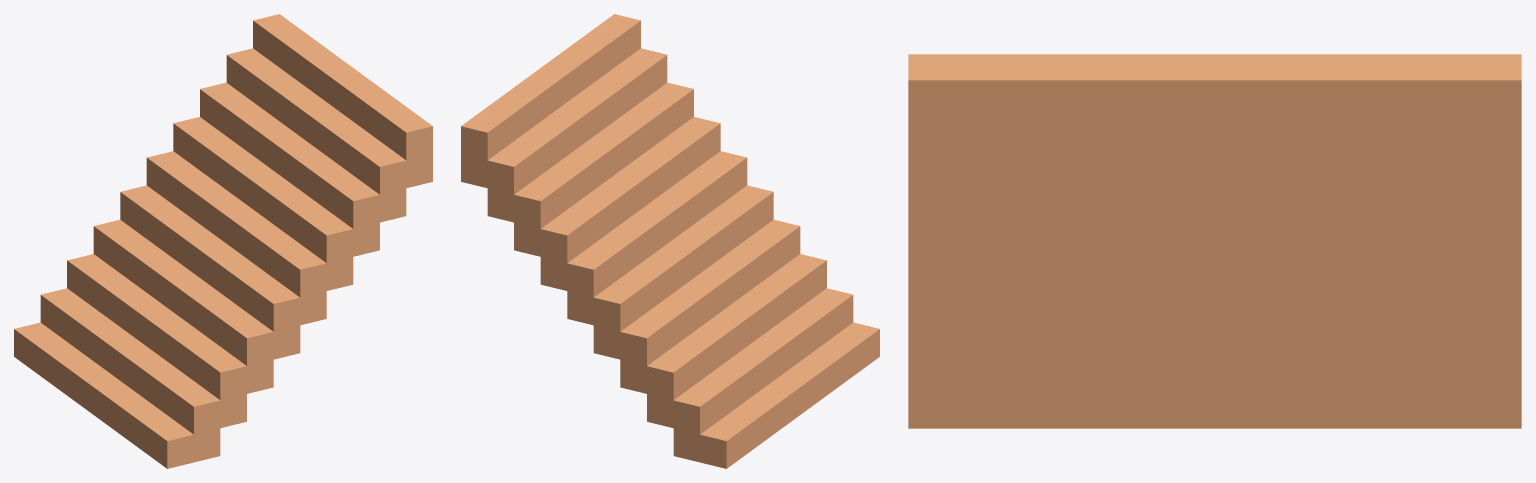
File: Stairs_003.fbx
3 views of the same model, side by side, from view 1: azimuth 30°, elevation 25°; view 2: azimuth 150°, elevation 25°; view 3: azimuth 270°, elevation 25° (orthographic). The views are drawn at different scales.
Visible parts, largest first — view 1: Stairs.003; view 2: Stairs.003; view 3: Stairs.003.
Boxes of the visible parts, <box> form: Stairs.003: <box>14,14,432,468</box>; Stairs.003: <box>461,14,879,468</box>; Stairs.003: <box>908,54,1521,428</box>.
Bounding box in the file's own units: 100 × 100 × 100.
